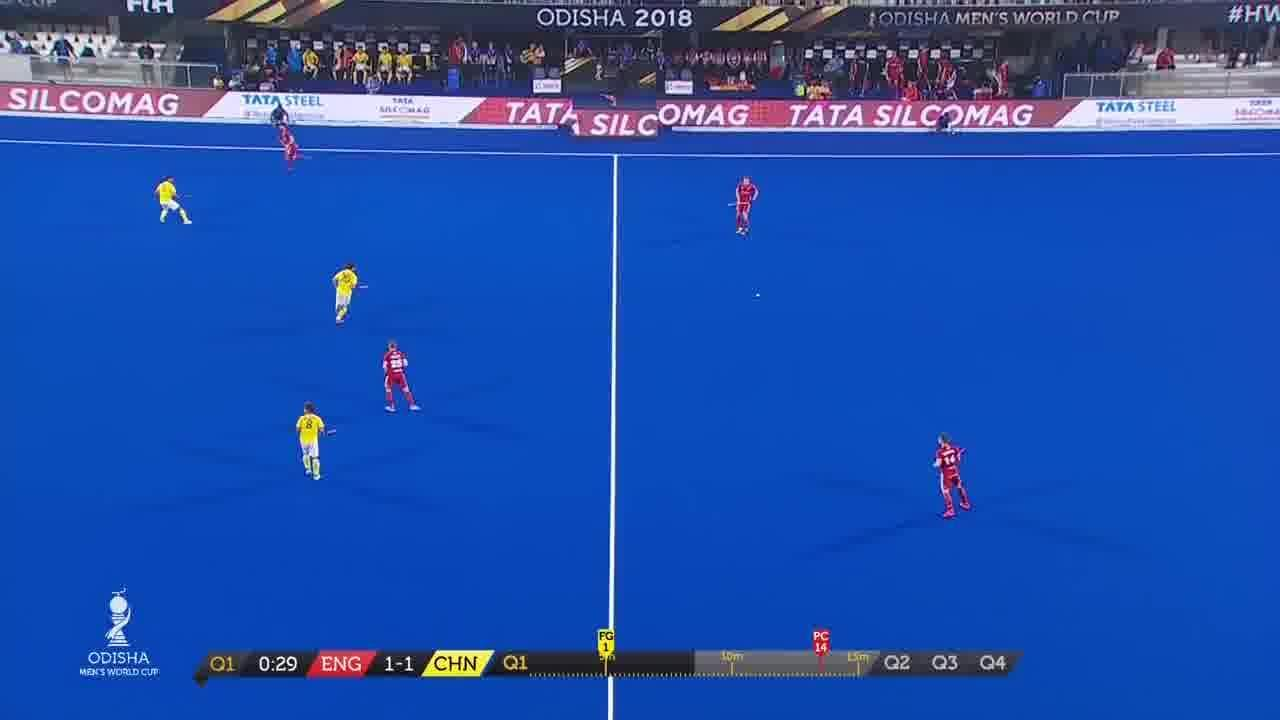ball: (750, 286, 773, 306)
